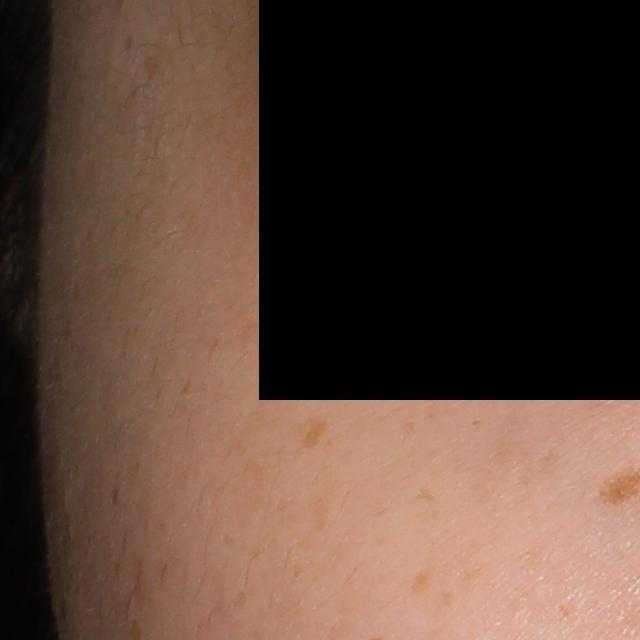melasma: (297, 412, 330, 453), (405, 564, 434, 599), (411, 483, 441, 507)
